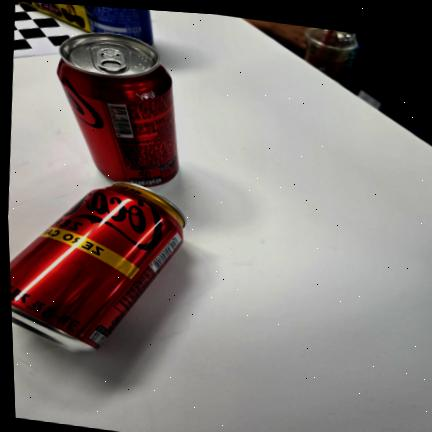can_coke_decaf: (10, 182, 185, 351)
can_coke_zero: (57, 33, 178, 186)
